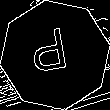P_S: (33, 27, 77, 83)
